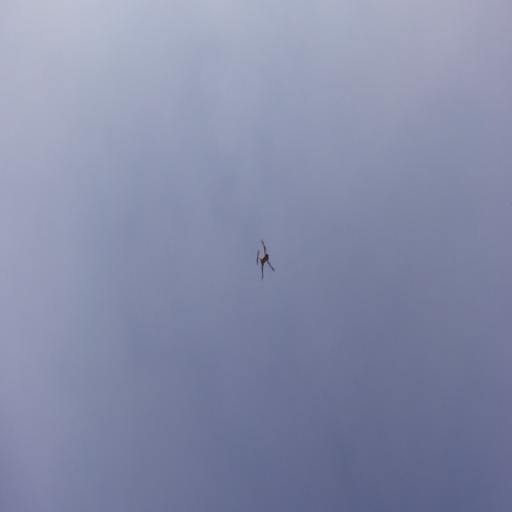drones: (254, 236, 274, 284)
